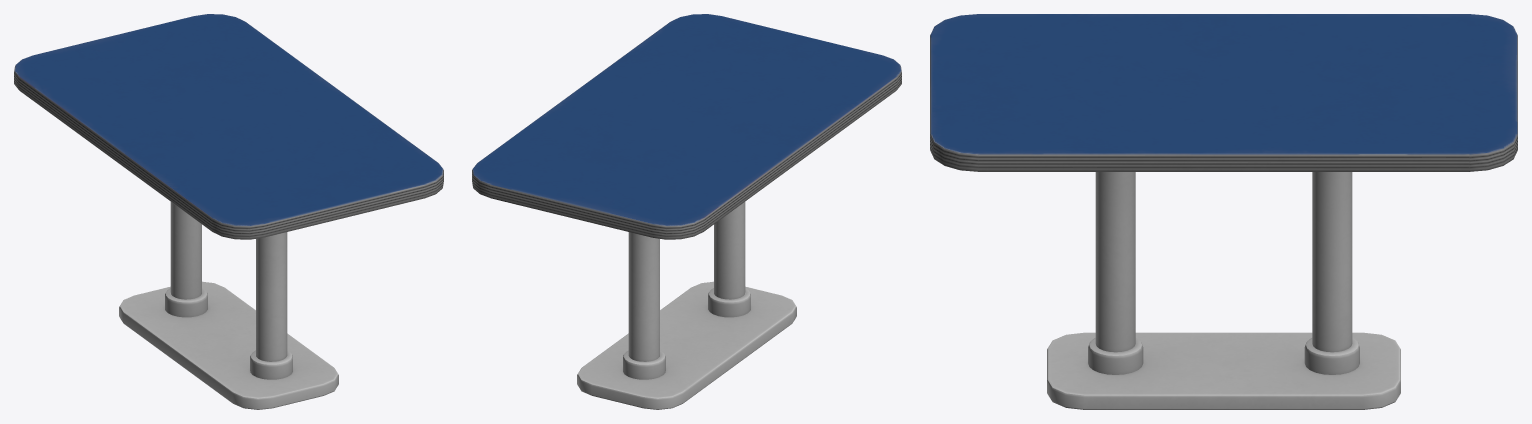
File: SM_Table.fbx
The picture shows the model from 3 angles, left to right: view 1: azimuth 30°, elevation 25°; view 2: azimuth 150°, elevation 25°; view 3: azimuth 270°, elevation 25°; orthographic projection. The views are drawn at different scales.
Parts seen in each view (by area): view 1: SM_Table_LOD0; view 2: SM_Table_LOD0; view 3: SM_Table_LOD0.
Boxes of the visible parts, x1,y1,x2,y2 form: SM_Table_LOD0: (14,14,443,409); SM_Table_LOD0: (472,14,901,409); SM_Table_LOD0: (930,14,1517,409).
Size of the model in its own units: 91.81 by 162 by 89.7.
Materials: 1 (1 with a texture image).
